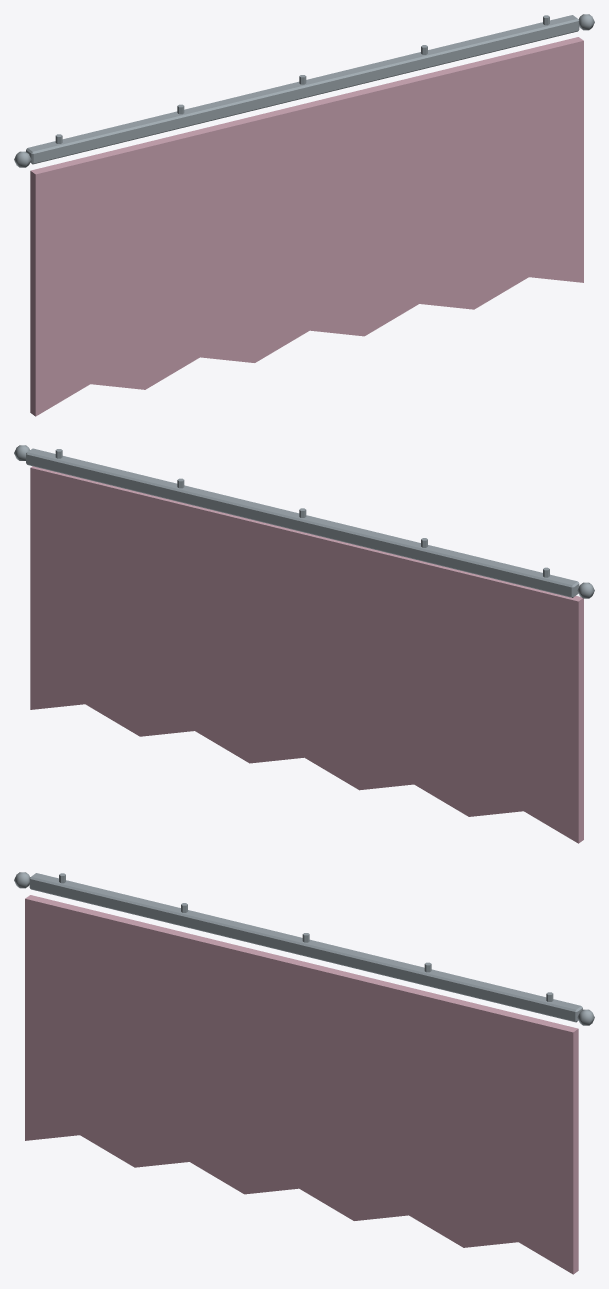
The model's file is overlay_1.fbx.
The picture shows the model from 3 angles, top to bottom: view 1: azimuth 30°, elevation 25°; view 2: azimuth 150°, elevation 25°; view 3: azimuth 330°, elevation 25°; orthographic projection.
Visible parts, largest first — view 1: overlay_1; view 2: overlay_1; view 3: overlay_1.
Boxes of the visible parts, x1,y1,x2,y2 form: overlay_1: (14,14,594,416); overlay_1: (14,445,594,843); overlay_1: (14,872,594,1274).
Bounding box in the file's own units: 3.79 × 1.68 × 0.12.
